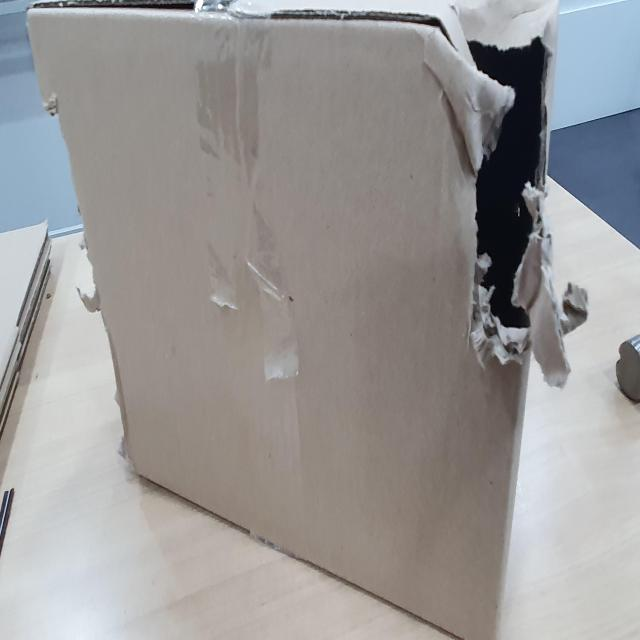damaged: (433, 6, 550, 383)
